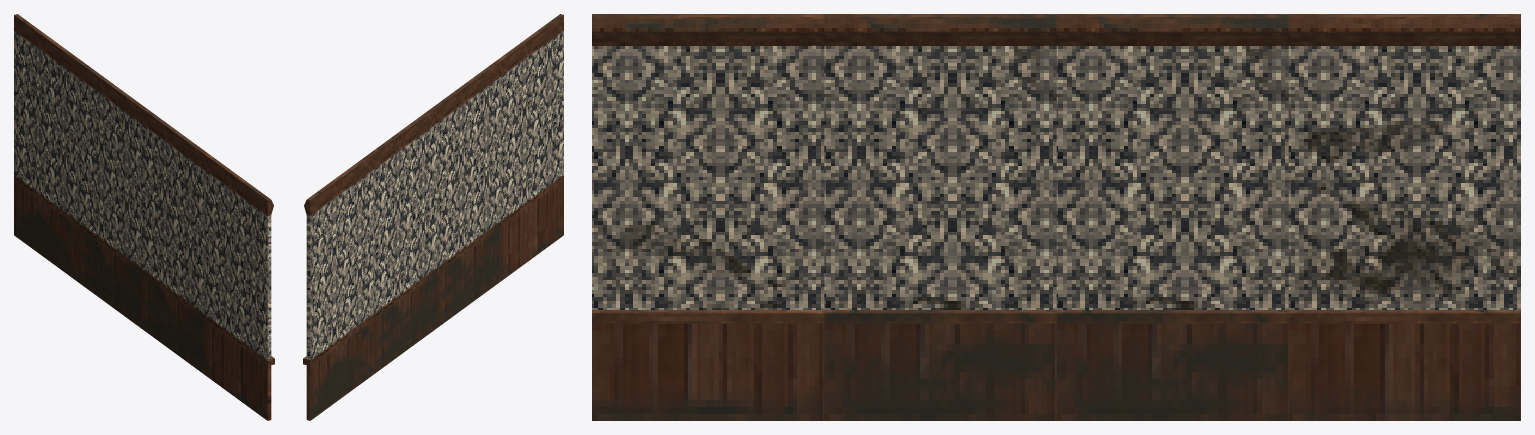
File: SM_Wall_B.glb
3 views of the same model, side by side, from view 1: azimuth 30°, elevation 25°; view 2: azimuth 150°, elevation 25°; view 3: azimuth 270°, elevation 25° (orthographic). The views are drawn at different scales.
Parts seen in each view (by area): view 1: SM_Wall_B; view 2: SM_Wall_B; view 3: SM_Wall_B.
Part boxes in pixels (box(x1,y1,x2,y2)): SM_Wall_B: box(14, 14, 274, 420); SM_Wall_B: box(303, 14, 563, 420); SM_Wall_B: box(592, 14, 1520, 420).
Size of the model in its own units: 0.2 by 5.76 by 12.
Materials: 3 (3 with a texture image).
